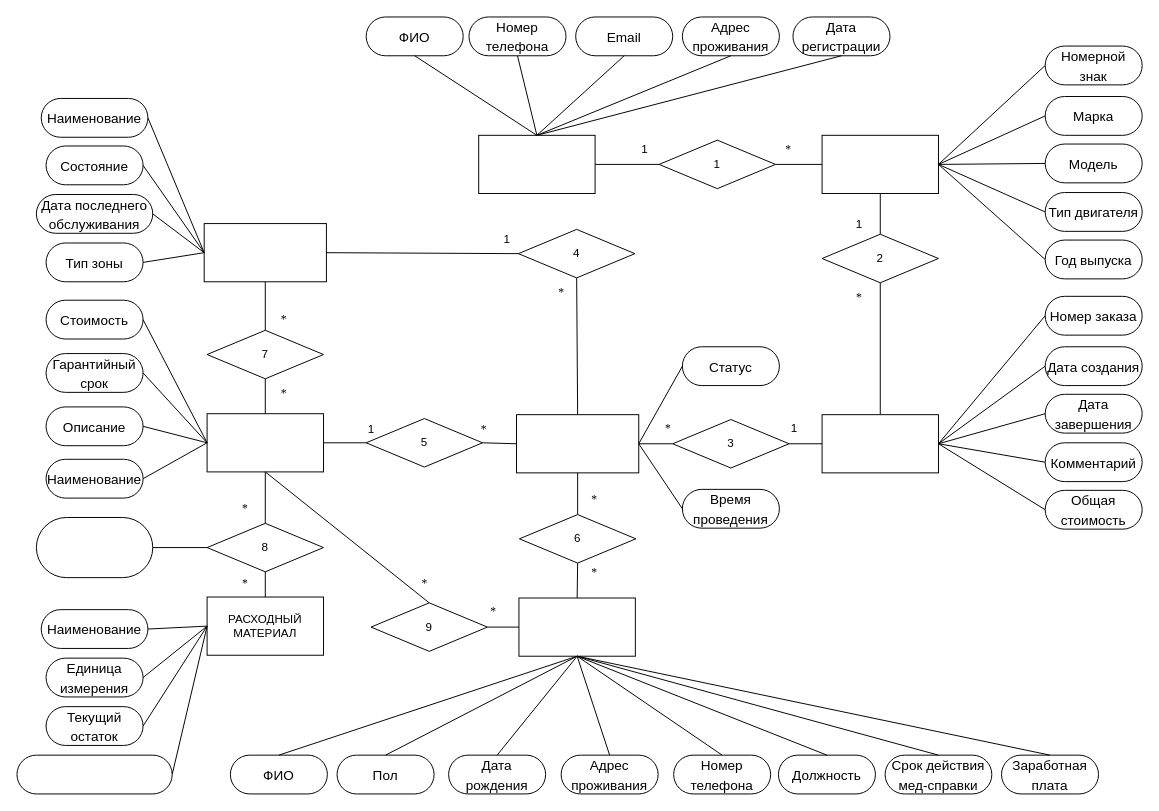
Some shapes in this 1159 by 811 pixel diagram are drawn without their labels. Here are the shapes that lost their labels. From the top down, the centre of each, then its label:
At (536,164): "КЛИЕНТ".
At (879,164): "АВТОМОБИЛЬ".
At (264,252): "РАБОЧАЯ ЗОНА".
At (264,442): "УСЛУГА".
At (577,443): "ВЫПОЛНЕННАЯ УСЛУГА".
At (879,443): "ЗАКАЗ-НАРЯД".
At (94,547): "Количество расходного материала".
At (576,626): "СОТРУДНИК".
At (94,774): "Стоимость единицы материала".
